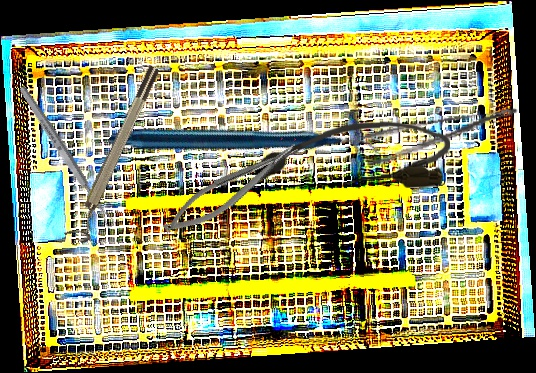Cannula: (253, 119, 451, 191)
Dressing Forceps: (361, 104, 524, 168)
Fixation Ring: (63, 63, 171, 246)
Handpiece: (106, 14, 381, 277)
Needle Holder: (156, 136, 307, 243)
Surgical Spoon: (16, 83, 117, 230)
